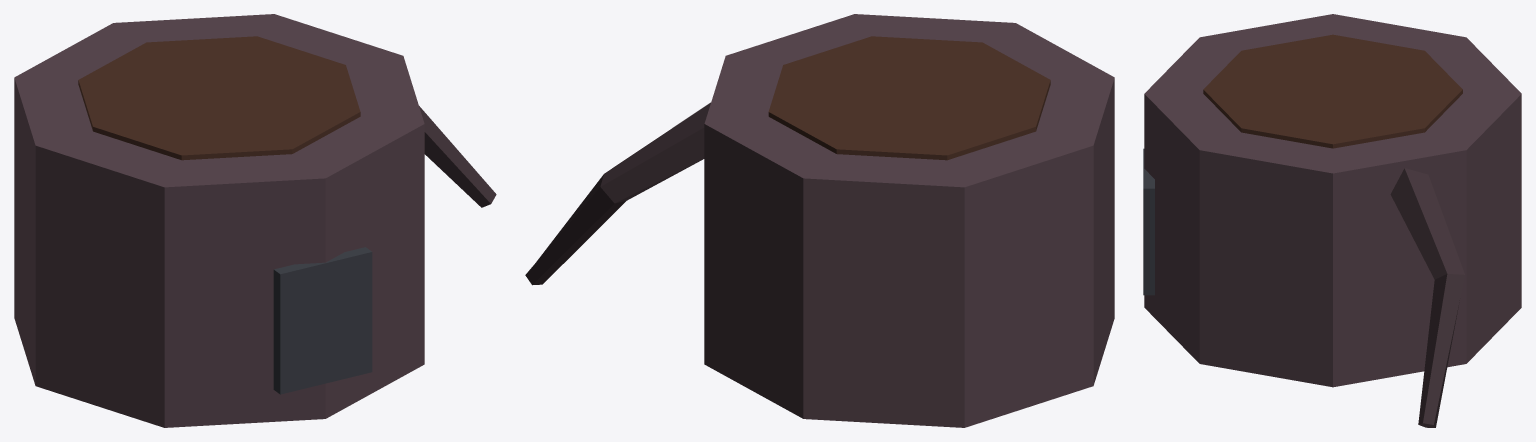
Rendered from hollow_stump.glb.
3 views of the same model, side by side, from view 1: azimuth 30°, elevation 25°; view 2: azimuth 150°, elevation 25°; view 3: azimuth 270°, elevation 25° (orthographic). The views are drawn at different scales.
Visible parts, largest first — view 1: hollow_stump; view 2: hollow_stump; view 3: hollow_stump.
Part boxes in pixels (x1,y1,x2,y2): hollow_stump: [14, 14, 496, 427]; hollow_stump: [525, 14, 1114, 427]; hollow_stump: [1143, 14, 1521, 427].
Size of the model in its own units: 2.23 by 1.02 by 1.6.
